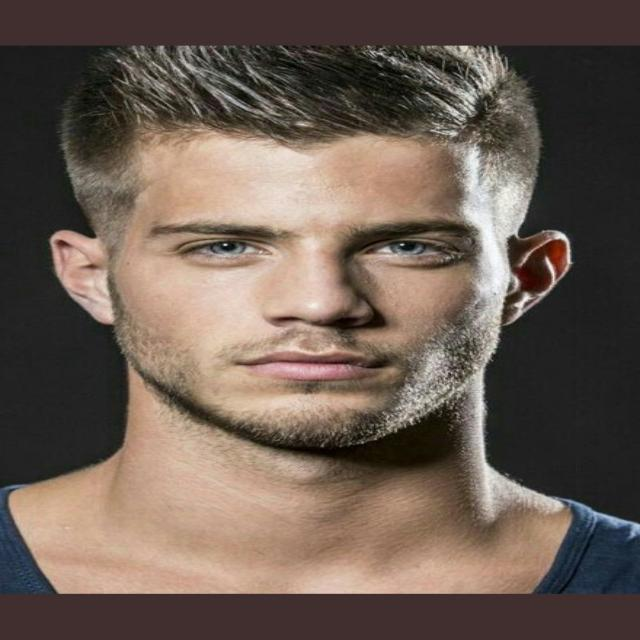earlobe: (500, 230, 572, 327), (50, 230, 118, 325)
